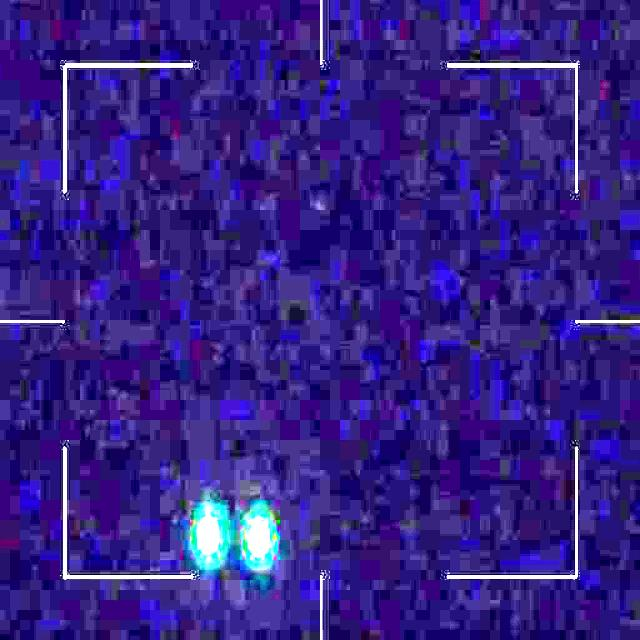bird: (195, 509, 272, 561)
